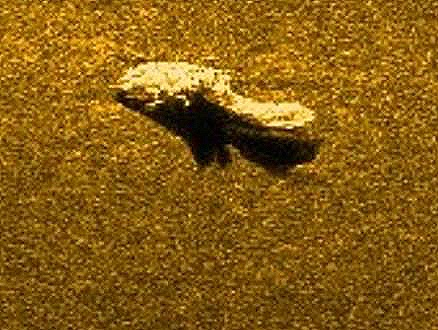human: (110, 60, 314, 130)
